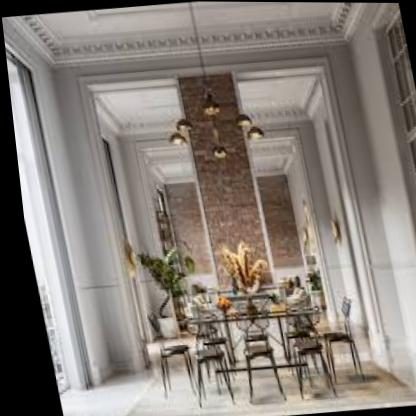Dining Table: (133, 261, 372, 415)
